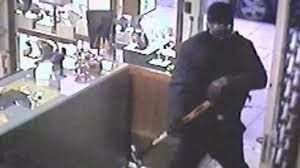gun: (112, 96, 221, 160)
